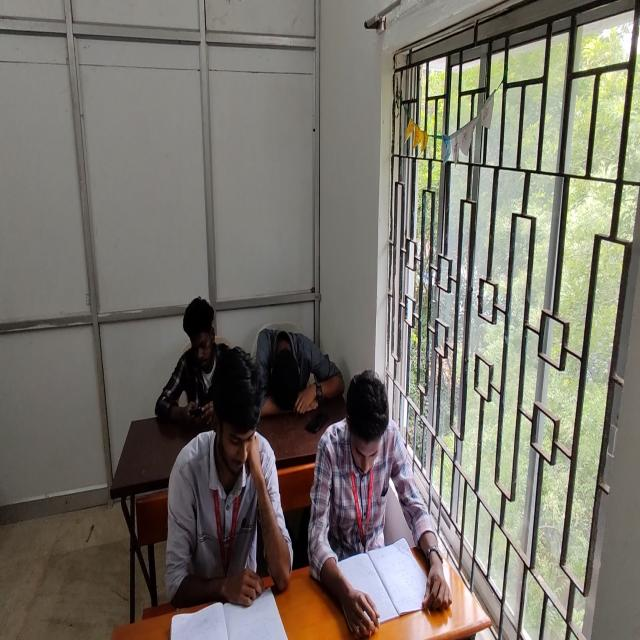reading: (164, 345, 292, 617), (335, 366, 452, 633)
sleeping: (254, 327, 340, 420)
using_mobile: (155, 296, 232, 428)
